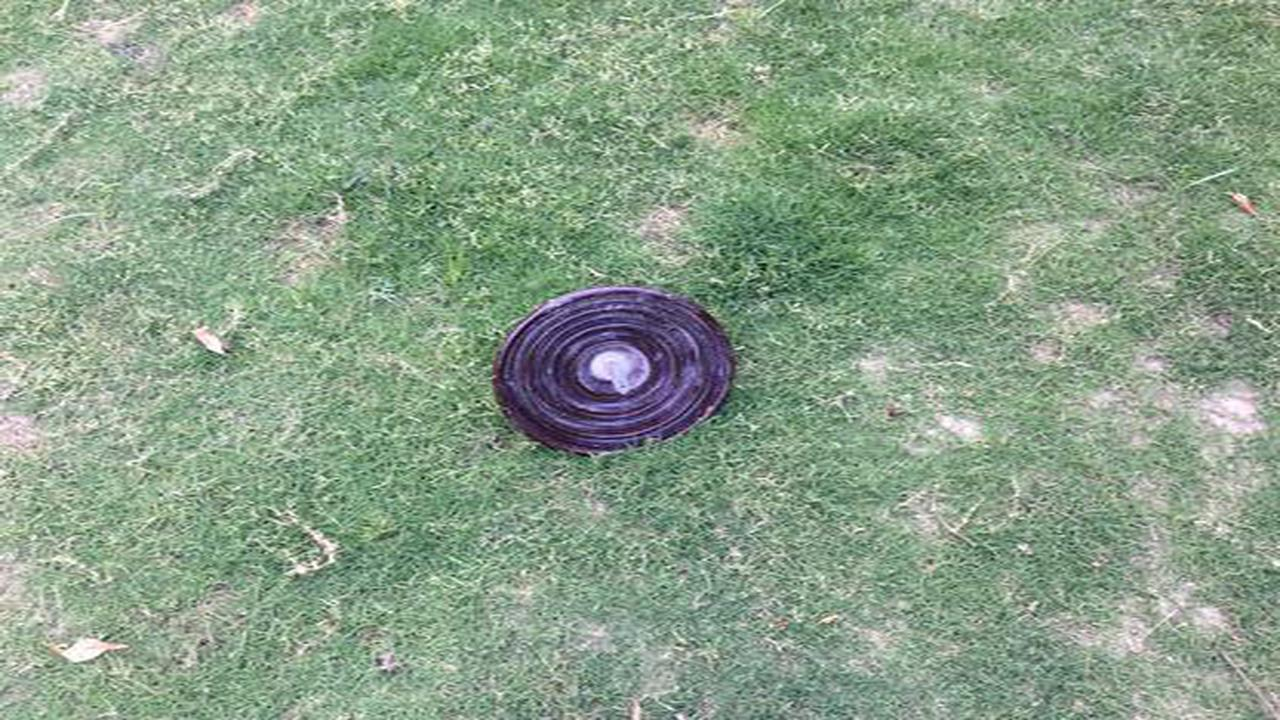insulator_disc: (491, 280, 739, 453)
